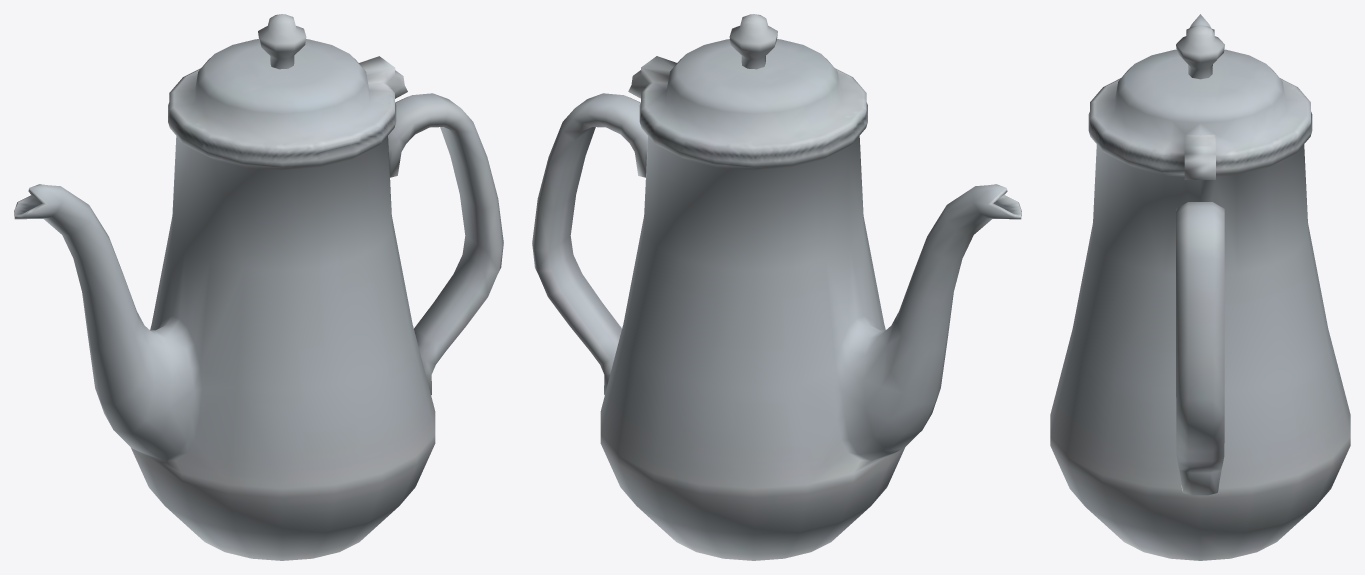
3 views of the same model, side by side, from view 1: azimuth 30°, elevation 25°; view 2: azimuth 150°, elevation 25°; view 3: azimuth 270°, elevation 25° (orthographic). The views are drawn at different scales.
Bounding box in the file's own units: 5.81 × 5.85 × 3.19.
Materials: 1 (1 with a texture image).
